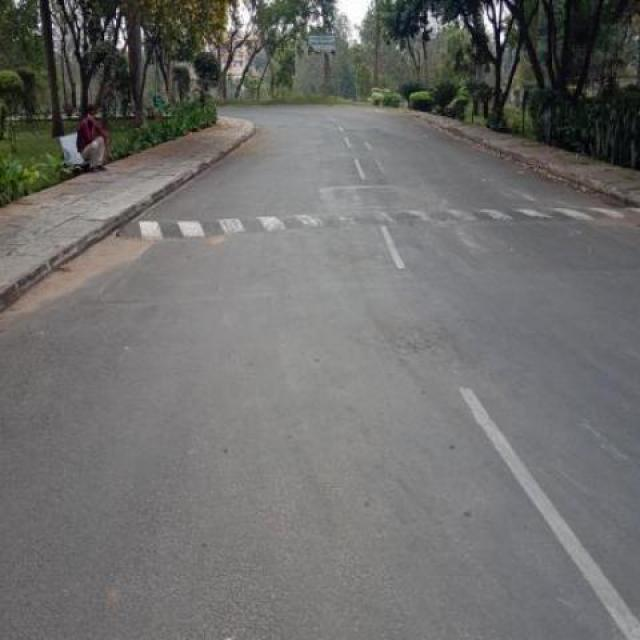Speed Bump: (114, 194, 638, 242)
